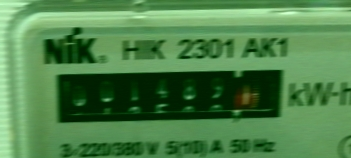0: (97, 77, 114, 103), (70, 82, 86, 108)
1: (125, 75, 141, 104), (238, 77, 251, 107)
4: (153, 75, 169, 101)
8: (178, 74, 197, 101)
9: (208, 75, 223, 100)
screen: (40, 54, 299, 140)
